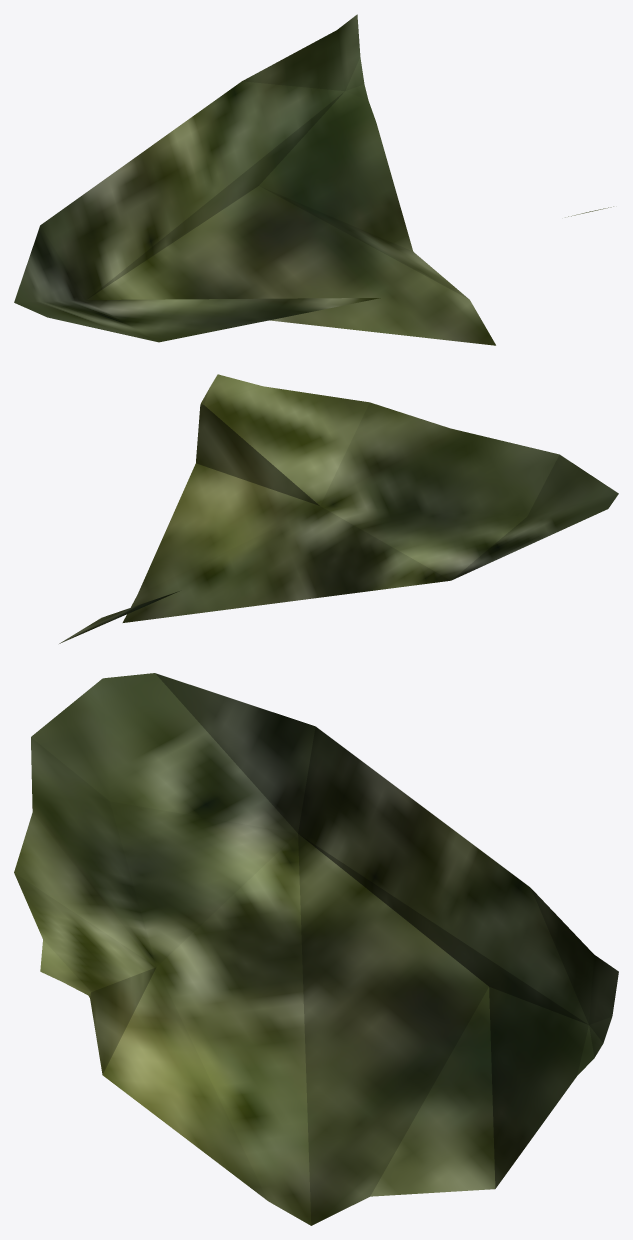
3 views of the same model, one above another, from view 1: azimuth 30°, elevation 25°; view 2: azimuth 150°, elevation 25°; view 3: azimuth 270°, elevation 25° (orthographic). The views are drawn at different scales.
Bounding box in the file's own units: 0.568 × 0.2255 × 0.4862.
1 material, 1 textured.
